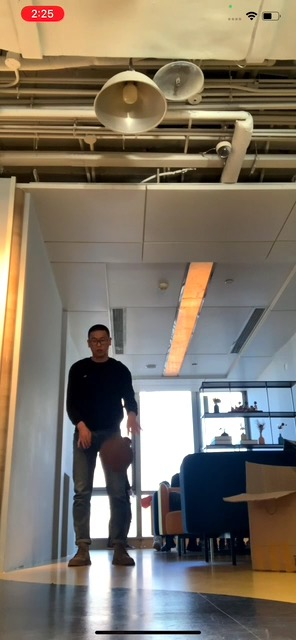ball: (99, 436, 135, 473)
